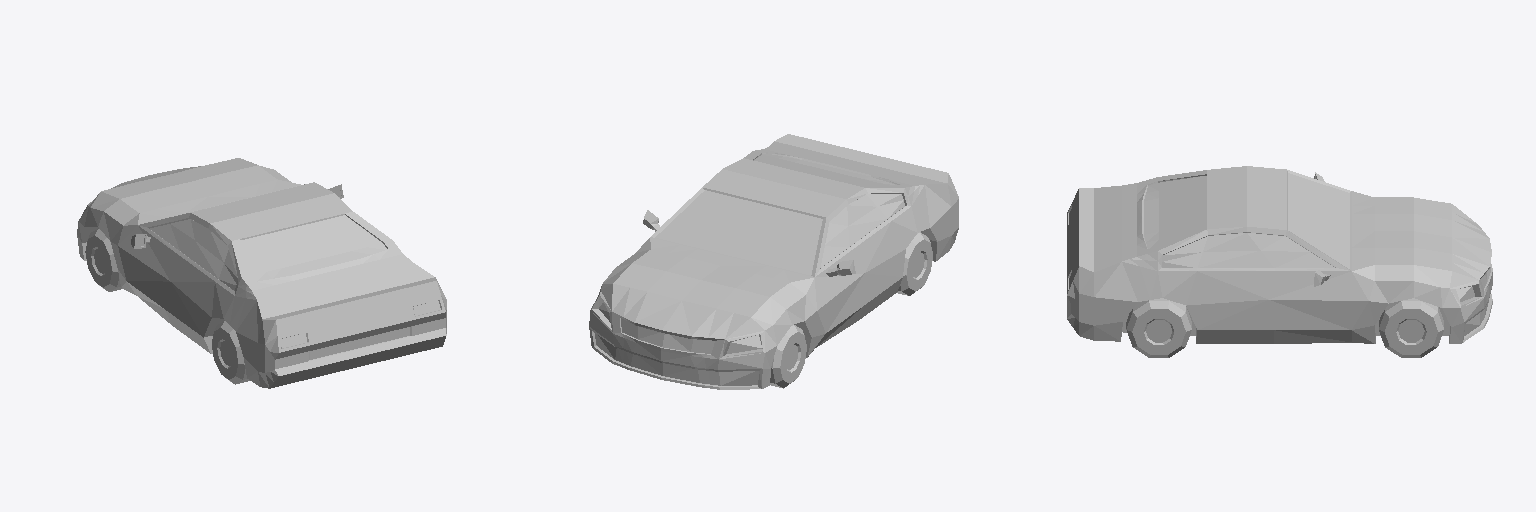
Rendered from car_red.obj.
The picture shows the model from 3 angles: view 1: azimuth 30°, elevation 25°; view 2: azimuth 150°, elevation 25°; view 3: azimuth 270°, elevation 25°; orthographic projection.
Visible parts, largest first — view 1: FrontRightWheel_Cylinder.002; view 2: FrontRightWheel_Cylinder.002; view 3: FrontRightWheel_Cylinder.002.
Boxes of the visible parts, box(x1,y1,x2,y2) form: FrontRightWheel_Cylinder.002: box(77, 158, 446, 388); FrontRightWheel_Cylinder.002: box(589, 134, 958, 389); FrontRightWheel_Cylinder.002: box(1067, 166, 1492, 357).
Size of the model in its own units: 1.07 by 0.5792 by 1.87.